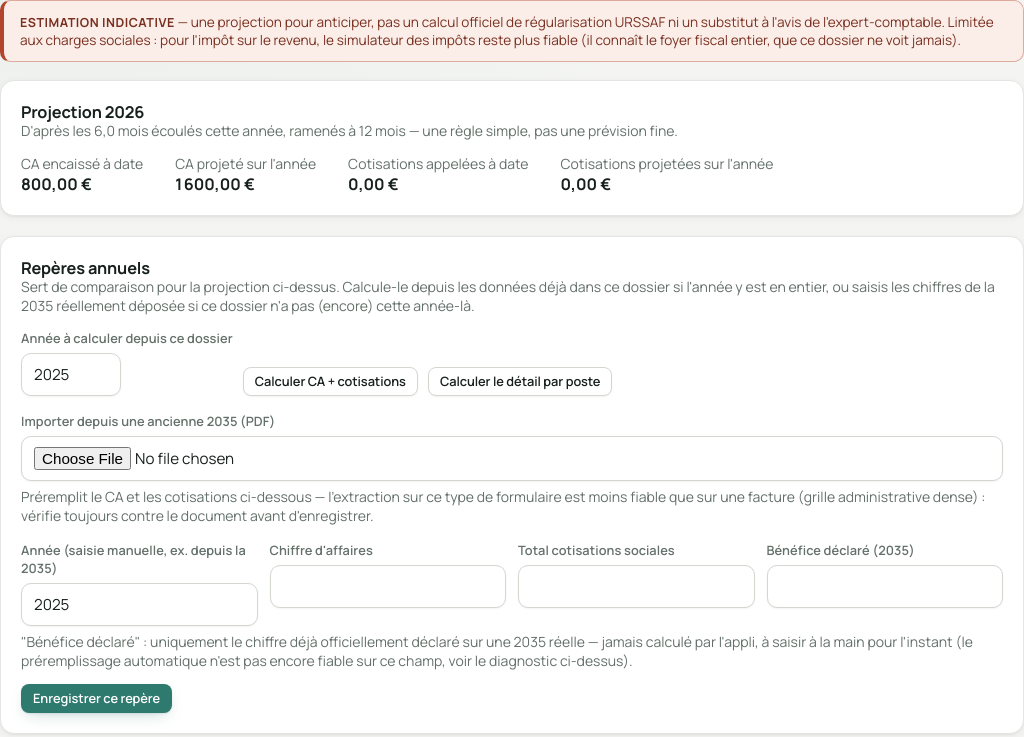
EstimationTab — le détail par poste compte les frais d’un mouvement d’encaissements (étape VF8g) › sans poste : sur aucune ligne, et dit avant le clic pour l’année saisie seulement
Expected: the heading "Projection 2026" is shown, [21,101,144,123]
Replace the text in the number field labelled "Année à calculer depuis ce dossier" with "2026" at (71, 374), box [21,353,121,396]
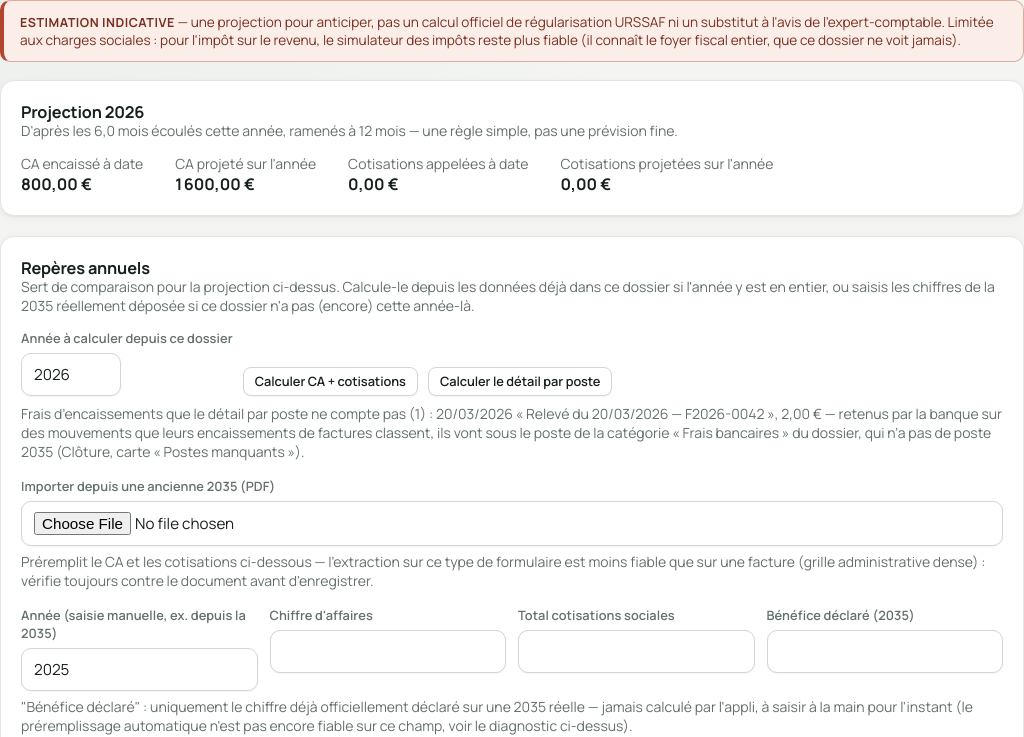
Expected: the text "Frais d’encaissements que le détail par poste ne compte pas (1) : 20/03/2026 « Relevé du 20/03/2026 — F2026-0042 »" shows "qui n’a pas de poste 2035 (Clôture, carte « Postes manquants »).", [21,423,991,461]
Click the button "Calculer le détail par poste" at (520, 381), box [428,367,612,396]
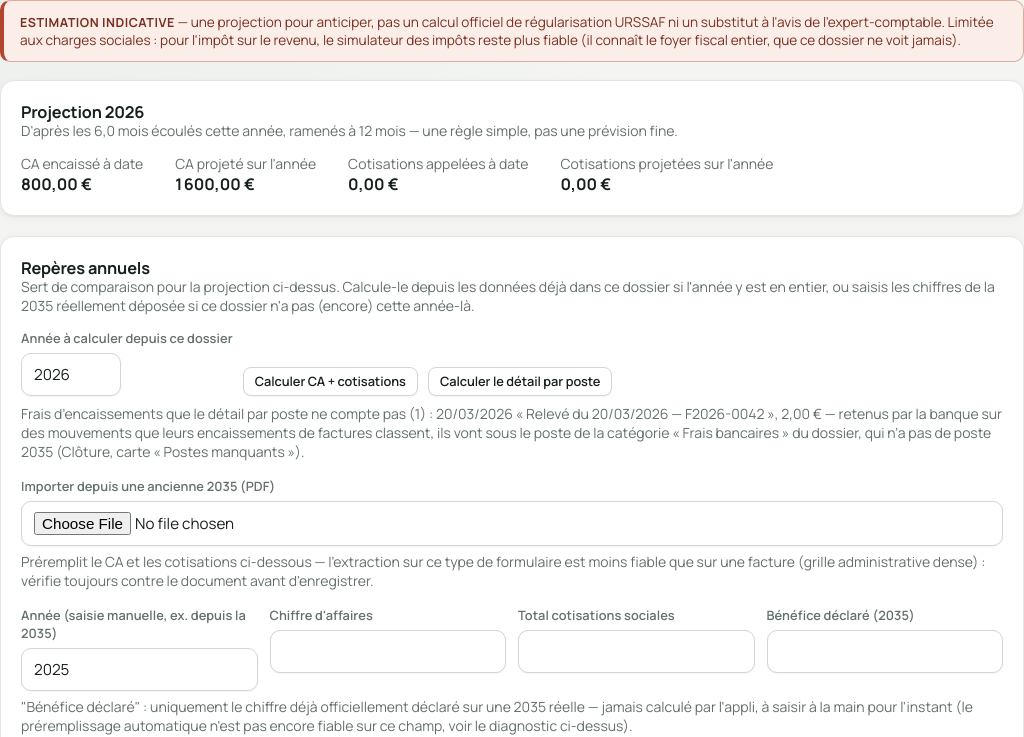
Replace the text in the number field labelled "Année à calculer depuis ce dossier" with "2025" at (71, 374), box [21,353,121,396]
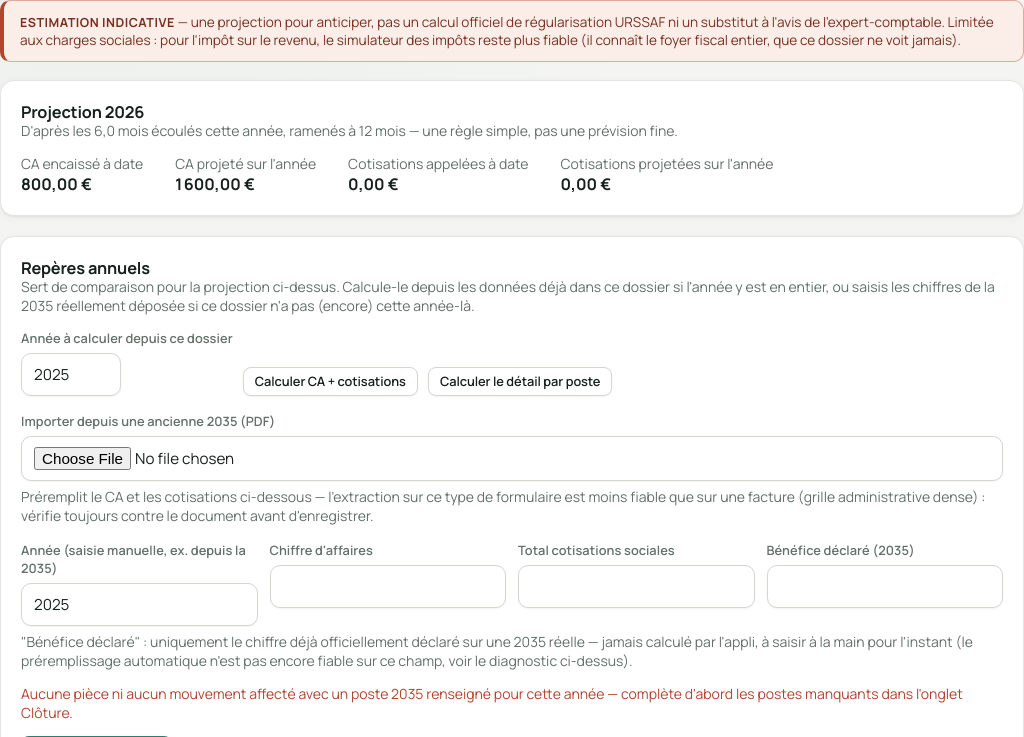
Expected: the text "Frais d’encaissements" is gone
